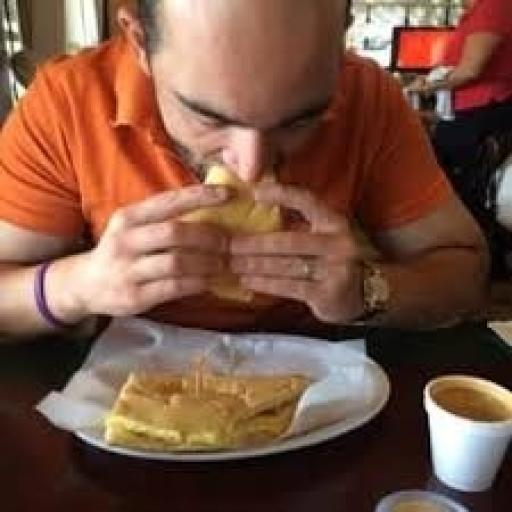eating: (0, 0, 494, 346)
